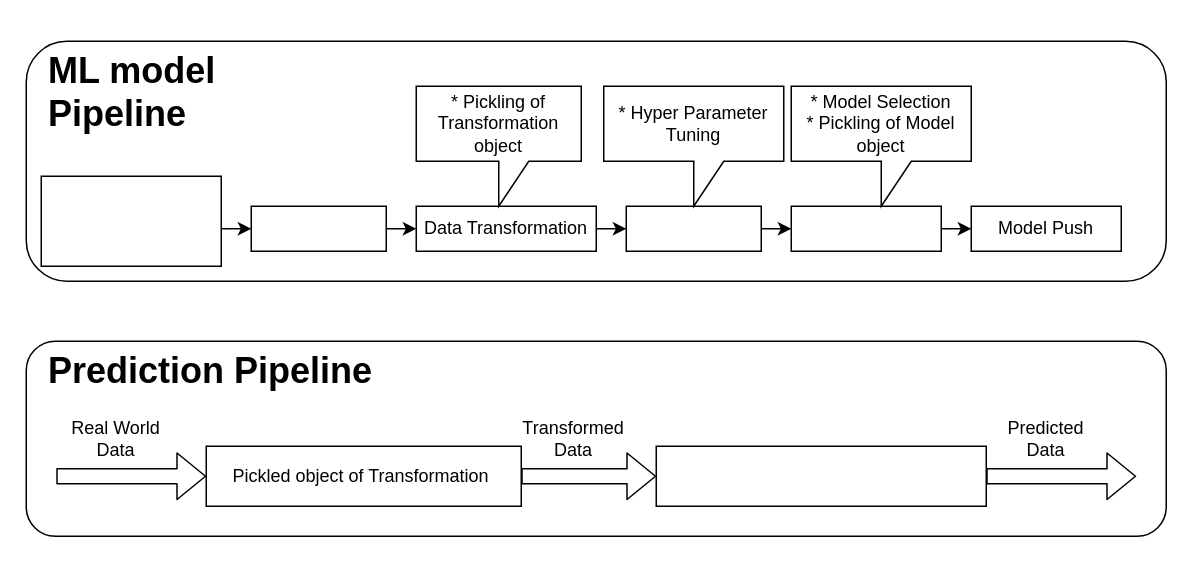
This 1193x563 diagram has some shape labels left out. The box of each missing label's shape, as (x1, y1, x2, y2) in pixels:
Data Validation: (250, 205, 386, 251)
Model Evaluation: (790, 205, 941, 251)
Model Training: (625, 205, 761, 251)
Pickled Object of Selected Model: (655, 445, 986, 506)
